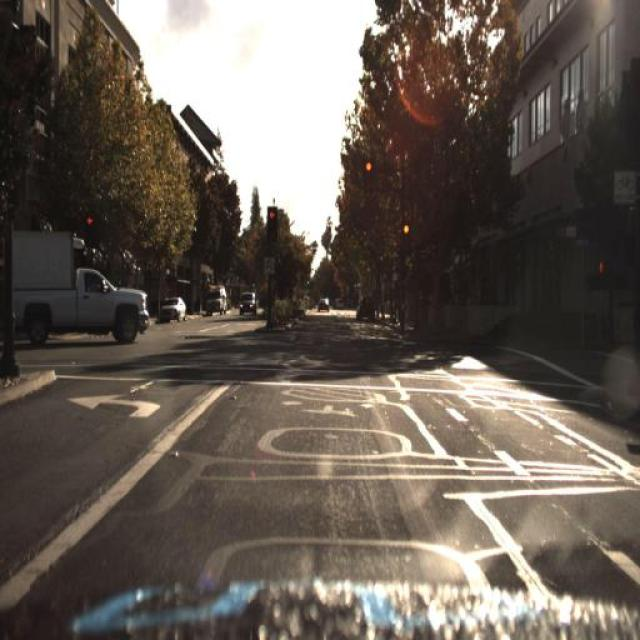car: (9, 231, 147, 343), (204, 284, 228, 317), (355, 296, 383, 323), (238, 290, 258, 318), (355, 297, 374, 323)
trafficLight-Green: (398, 220, 410, 256), (365, 161, 374, 199)
trafficLight-Yellow: (84, 208, 98, 246), (267, 209, 278, 237)
